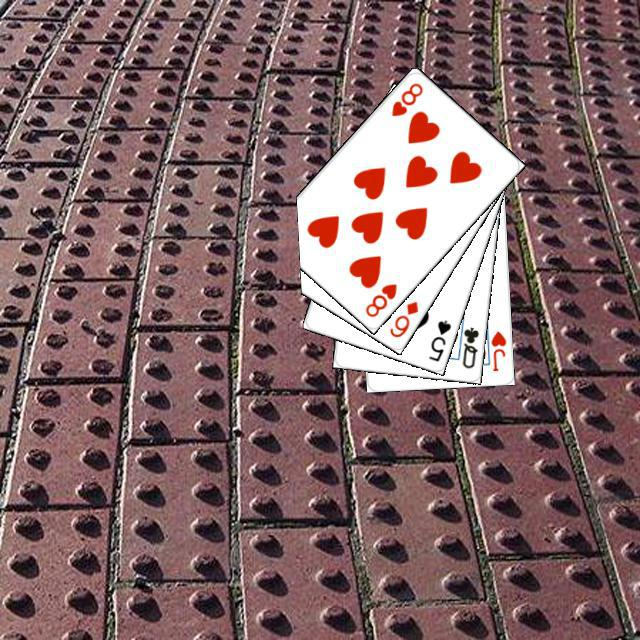5s: (424, 315, 453, 363)
6d: (384, 296, 420, 339)
8h: (360, 278, 399, 319), (386, 78, 425, 118)
Jh: (486, 326, 508, 373)
Qc: (451, 317, 480, 370)
